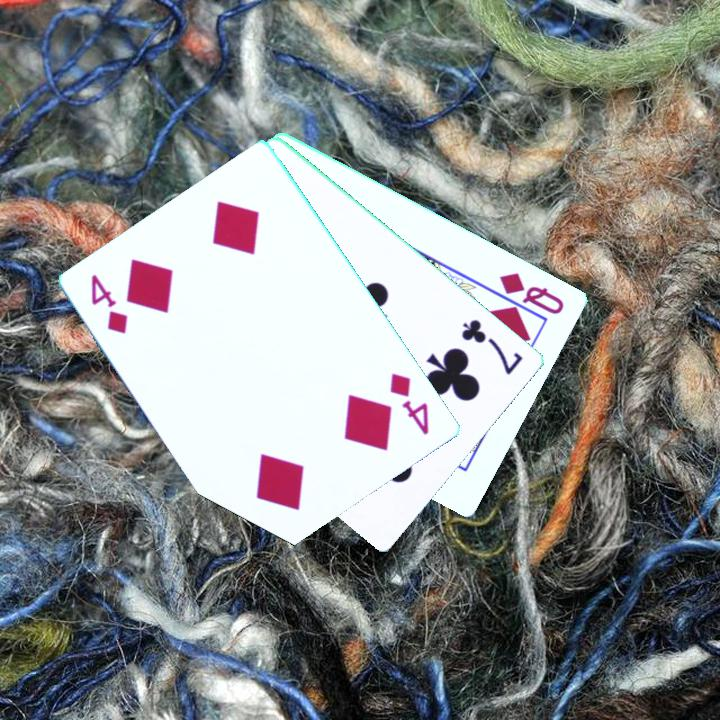4d: (386, 369, 433, 438), (88, 270, 132, 338)
7c: (458, 315, 527, 378)
Qd: (489, 268, 568, 322)
